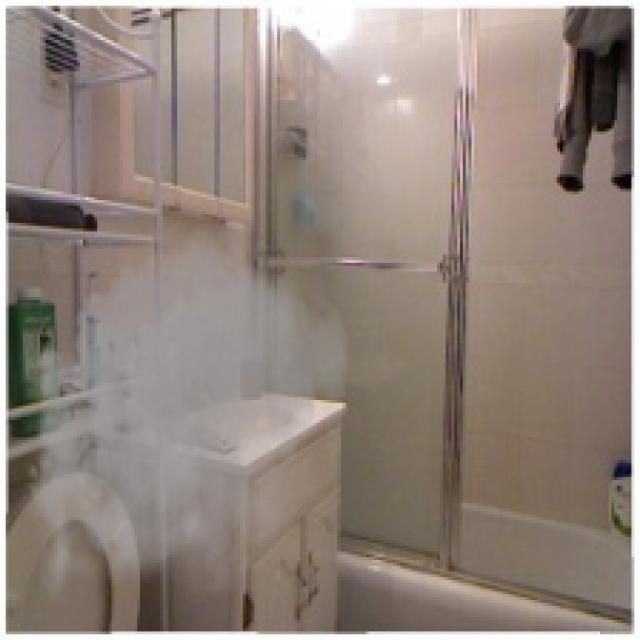smoke: (11, 217, 360, 614)
